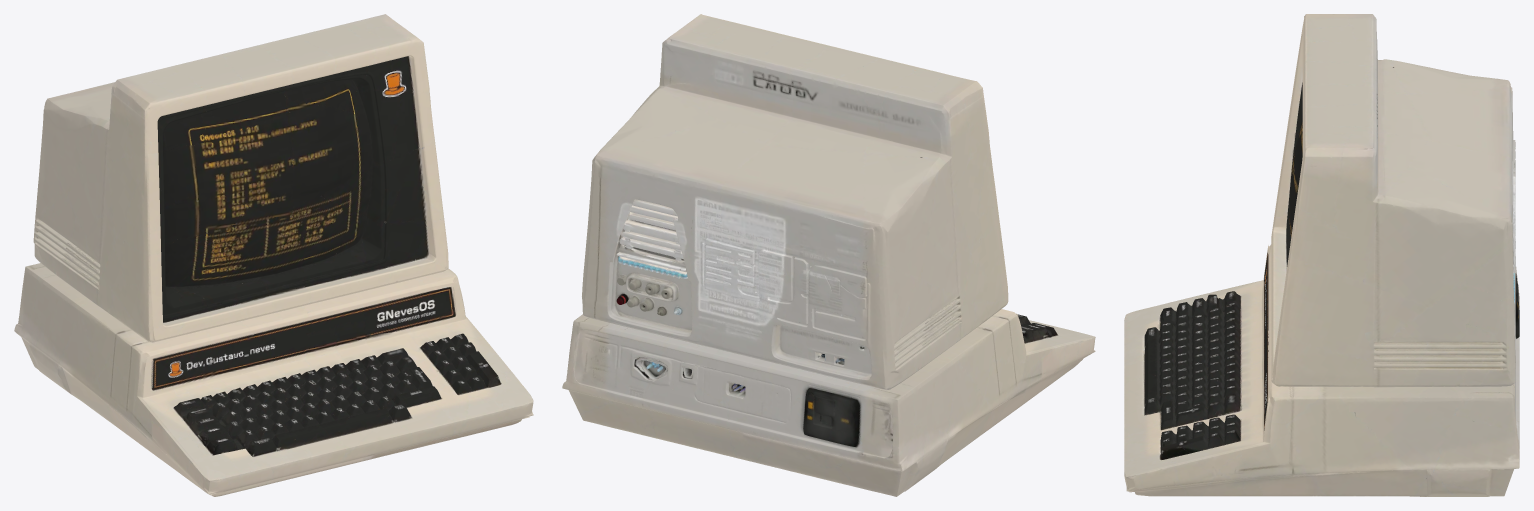
The model's file is computador.glb.
3 renders of one model, left to right at view 1: azimuth 30°, elevation 25°; view 2: azimuth 150°, elevation 25°; view 3: azimuth 270°, elevation 25°, orthographic. The views are drawn at different scales.
Bounding box in the file's own units: 1.89 × 1.8 × 1.9.
1 material, 1 textured.
